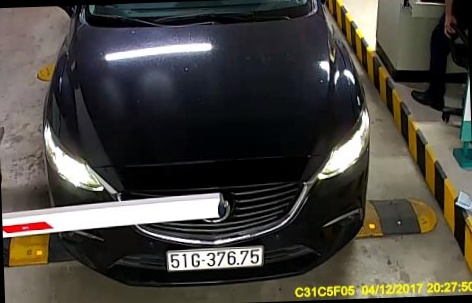plate: (161, 243, 270, 273)
